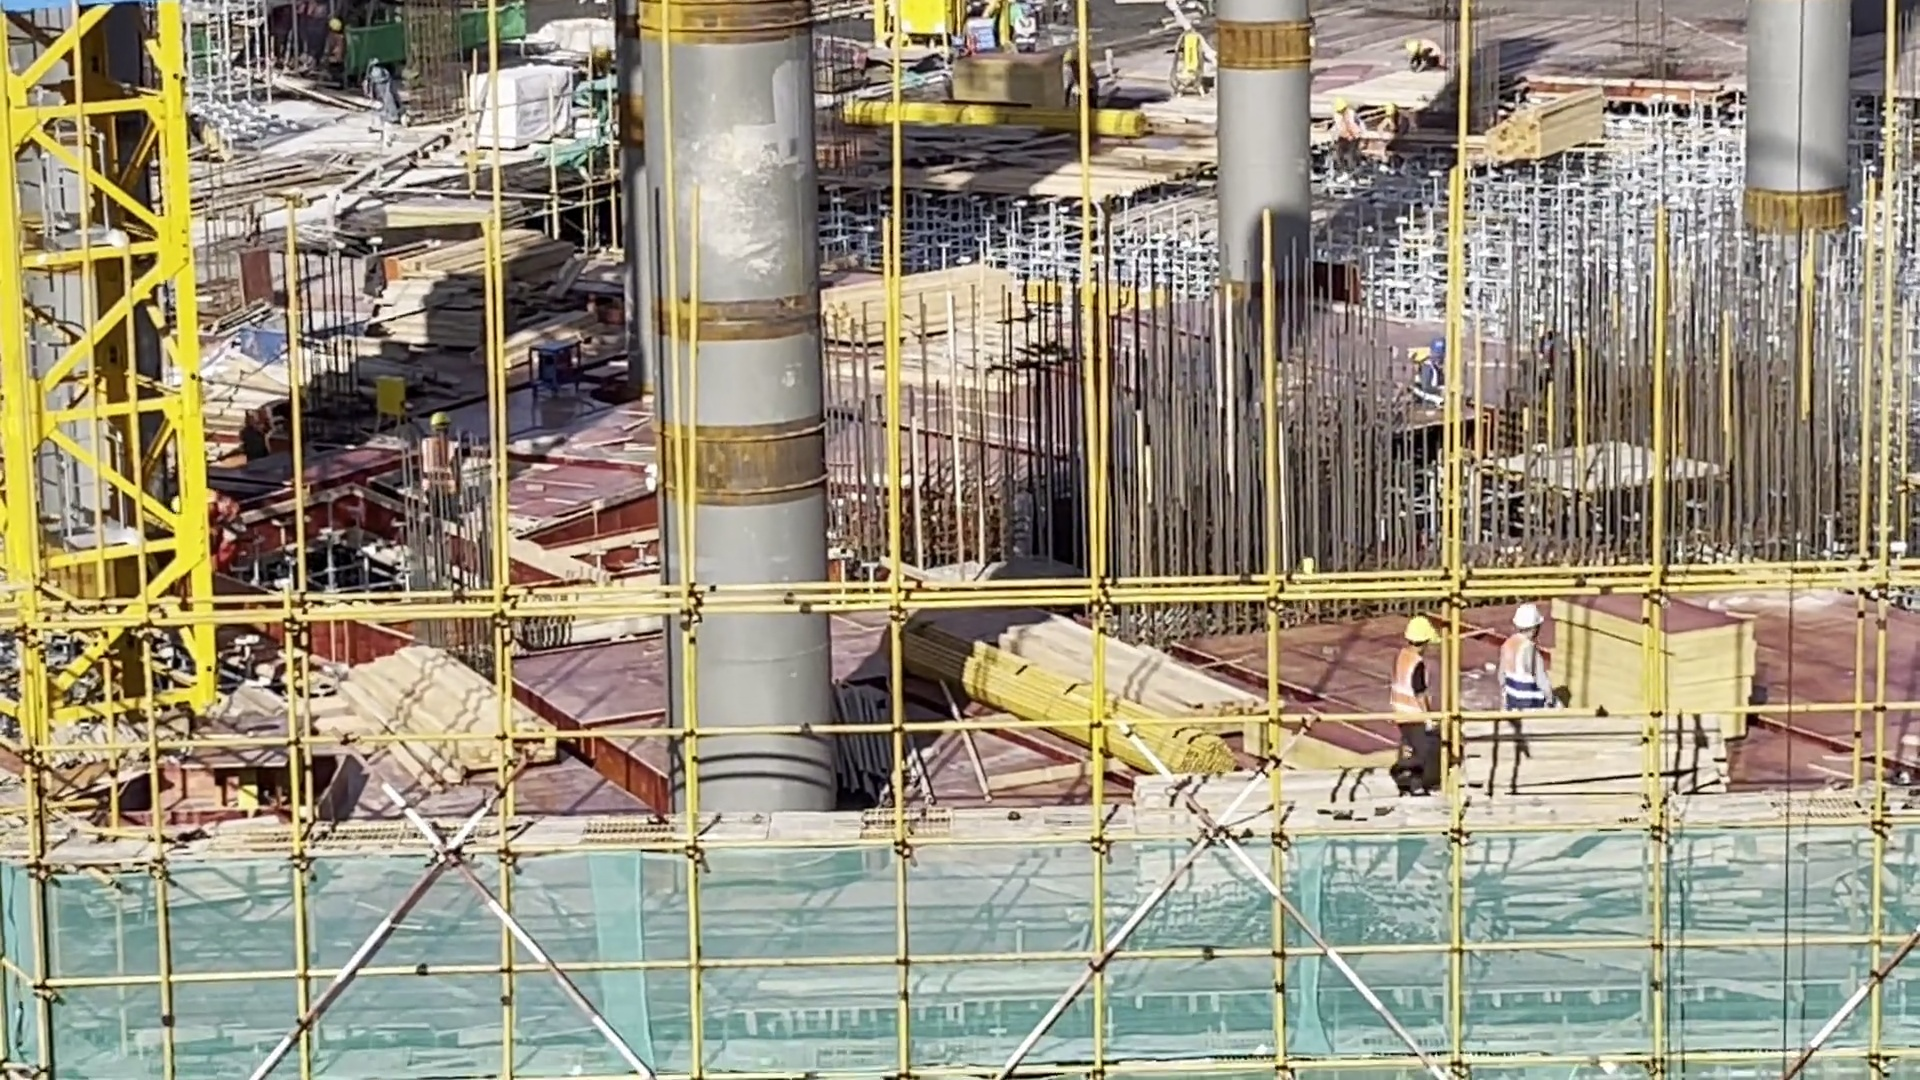board: (1558, 597, 1748, 747), (378, 235, 563, 347)
helmet: (1403, 619, 1437, 644), (1514, 603, 1547, 628)
person: (1385, 614, 1447, 788), (1500, 601, 1556, 726)
vest: (1500, 634, 1547, 711), (1389, 649, 1429, 726)
wood: (982, 612, 1247, 777), (342, 647, 550, 764), (1465, 711, 1725, 797), (824, 261, 1021, 341), (1478, 93, 1602, 168)
